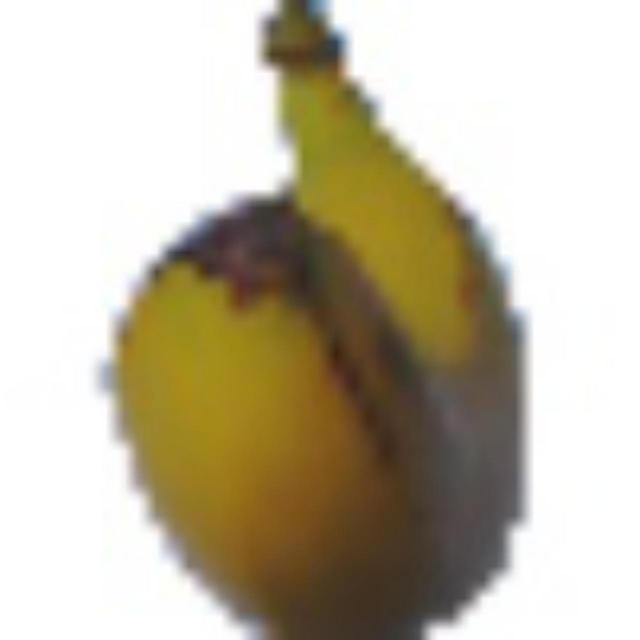banana: (83, 0, 525, 634)
